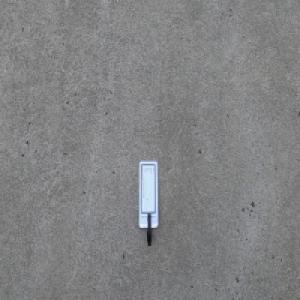LuggageTag: (137, 159, 158, 247)
